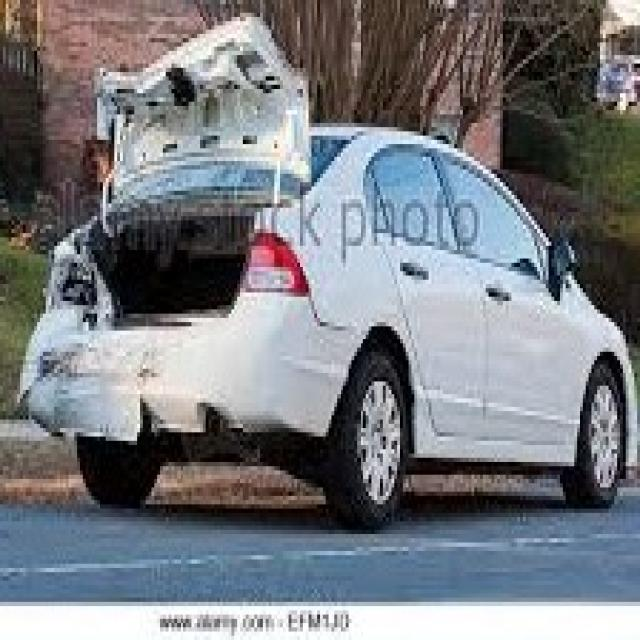minor: (96, 11, 322, 222)
moderate: (22, 248, 114, 424)
